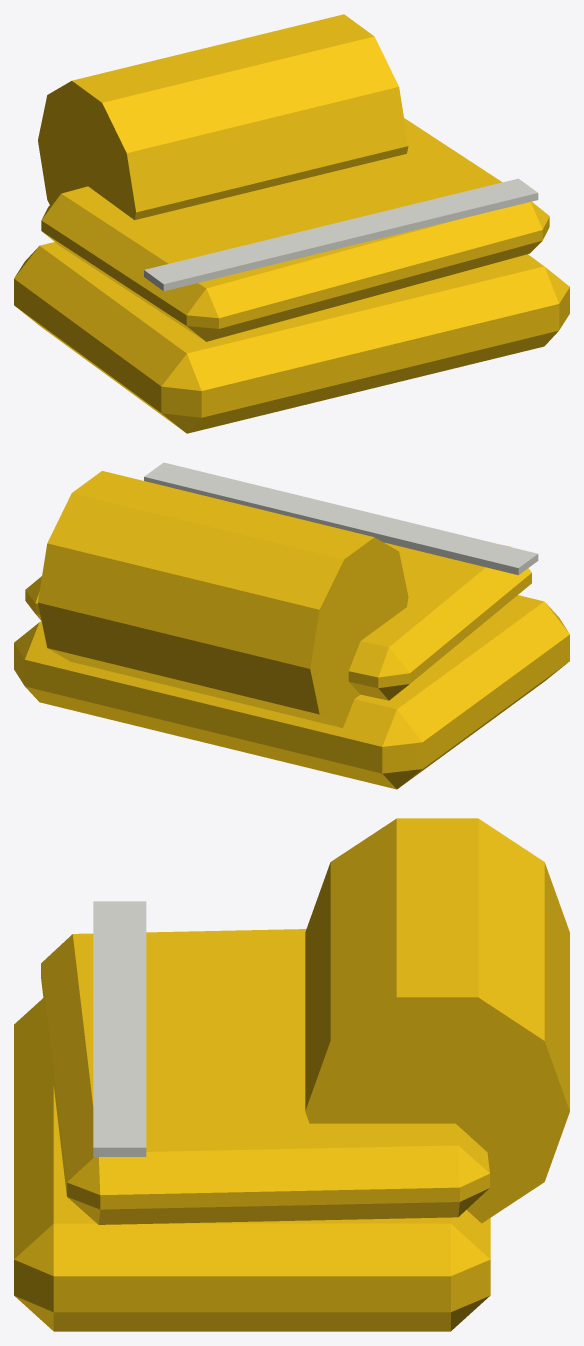
Rendered from Item_Raincoat.glb.
The picture shows the model from 3 angles, top to bottom: view 1: azimuth 30°, elevation 25°; view 2: azimuth 150°, elevation 25°; view 3: azimuth 270°, elevation 25°; orthographic projection. The views are drawn at different scales.
Parts seen in each view (by area): view 1: Raincoat_Hood, Raincoat_Fold, Raincoat_Top, Raincoat_Stripe; view 2: Raincoat_Hood, Raincoat_Fold, Raincoat_Top, Raincoat_Stripe; view 3: Raincoat_Hood, Raincoat_Top, Raincoat_Fold, Raincoat_Stripe.
Part boxes in pixels (x1,y1,x2,y2): Raincoat_Hood: [38, 14, 408, 220]; Raincoat_Fold: [14, 242, 569, 433]; Raincoat_Top: [41, 118, 549, 341]; Raincoat_Stripe: [144, 178, 538, 291]; Raincoat_Hood: [38, 471, 408, 727]; Raincoat_Fold: [14, 595, 569, 789]; Raincoat_Top: [25, 542, 531, 700]; Raincoat_Stripe: [144, 462, 538, 575]; Raincoat_Hood: [305, 818, 569, 1223]; Raincoat_Top: [41, 929, 489, 1224]; Raincoat_Fold: [14, 998, 490, 1331]; Raincoat_Stripe: [93, 901, 146, 1156].
Size of the model in its own units: 0.24 by 0.1276 by 0.21.
